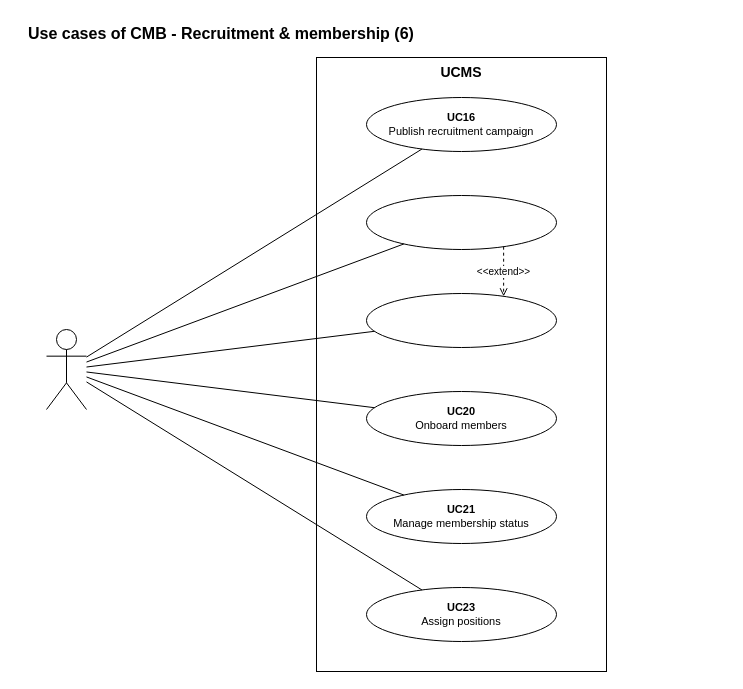
Some shapes in this 743 by 689 pixel diagram are drawn without their labels. Each missing label, with the centre of its shape:
"Club Management Board" belongs at point (66, 369).
"UC18 Screen applications" belongs at point (461, 320).
"UC19 Record candidate evaluation" belongs at point (461, 222).
